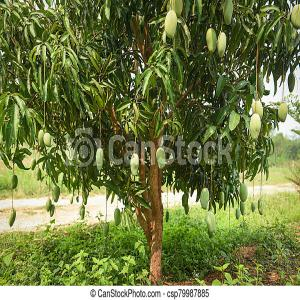Tree: (1, 2, 295, 279)
